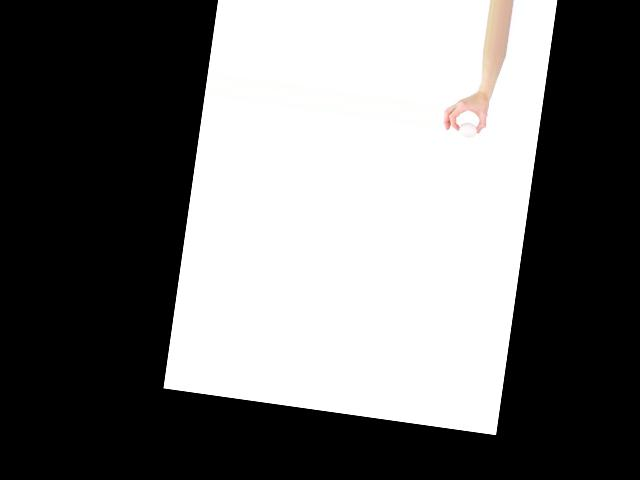egg: (458, 121, 478, 138)
